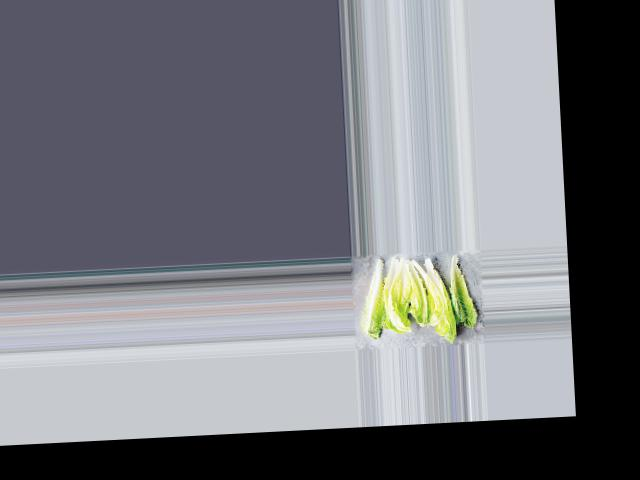lettuce: (447, 251, 475, 328)
